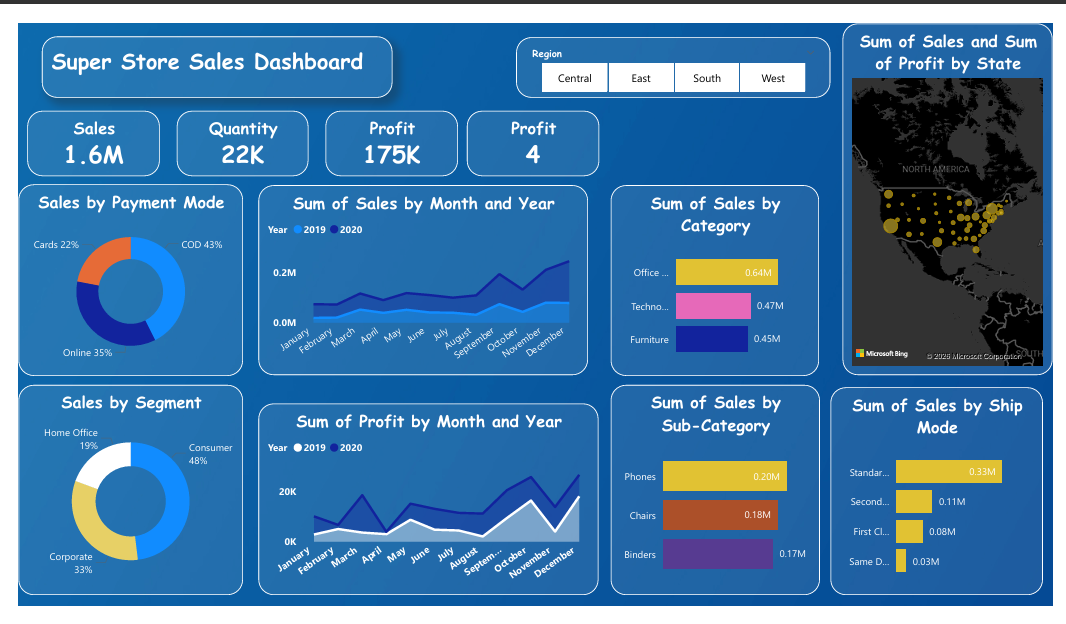

This screenshot's page, from the dashboard's own definition file:
{"tool":"powerbi","page":{"name":"Page 1","canvas":[1280,720],"ordinal":0},"visuals":[{"type":"clusteredBarChart","fields":{"Category":["SuperStore_Sales_Dataset.Category"],"Y":["Sum(SuperStore_Sales_Dataset.Sales)"]},"box":[733.3,200.4,257.7,235.4],"z":0},{"type":"clusteredBarChart","fields":{"Category":["SuperStore_Sales_Dataset.Sub-Category"],"Y":["Sum(SuperStore_Sales_Dataset.Sales)"]},"box":[733.3,446.7,258.3,260],"z":1000},{"type":"clusteredBarChart","fields":{"Y":["Sum(SuperStore_Sales_Dataset.Sales)"],"Category":["SuperStore_Sales_Dataset.Ship Mode"]},"box":[1005,450,263.3,256.7],"z":2000},{"type":"stackedAreaChart","fields":{"Category":["SuperStore_Sales_Dataset.Order Date.Variation.Date Hierarchy.Month","SuperStore_Sales_Dataset.Order Date.Variation.Date Hierarchy.Day"],"Series":["SuperStore_Sales_Dataset.Order Date.Variation.Date Hierarchy.Year"],"Y":["Sum(SuperStore_Sales_Dataset.Profit)"]},"box":[296.7,470,421.7,236.7],"z":3000},{"type":"stackedAreaChart","fields":{"Y":["Sum(SuperStore_Sales_Dataset.Sales)"],"Category":["SuperStore_Sales_Dataset.Order Date.Variation.Date Hierarchy.Month","SuperStore_Sales_Dataset.Order Date.Variation.Date Hierarchy.Day"],"Series":["SuperStore_Sales_Dataset.Order Date.Variation.Date Hierarchy.Year"]},"box":[296.7,200,408.3,235],"z":4000},{"type":"map","fields":{"Category":["SuperStore_Sales_Dataset.State"],"Size":["Sum(SuperStore_Sales_Dataset.Sales)"]},"box":[1020,0,260,435],"z":5000},{"type":"donutChart","title":"Sales by Segment","fields":{"Category":["SuperStore_Sales_Dataset.Segment"],"Y":["Sum(SuperStore_Sales_Dataset.Sales)"]},"box":[0,446.7,278.3,260],"z":6000},{"type":"slicer","fields":{"Values":["SuperStore_Sales_Dataset.Region"]},"box":[615.6,17.5,389.7,74.8],"z":7000},{"type":"donutChart","title":" Sales by Payment Mode","fields":{"Y":["Sum(SuperStore_Sales_Dataset.Sales)"],"Category":["SuperStore_Sales_Dataset.Payment Mode"]},"box":[0,198.8,278.4,237],"z":8000},{"type":"textbox","box":[28.6,15.9,434.2,76.3],"z":9000},{"type":"card","title":"Sales","fields":{"Values":["Sum(SuperStore_Sales_Dataset.Sales)"]},"box":[11.1,108.2,163.8,81.1],"z":10000},{"type":"card","title":"Quantity","fields":{"Values":["Sum(SuperStore_Sales_Dataset.Quantity)"]},"box":[195.6,108.2,163.8,81.1],"z":11000},{"type":"card","title":"Profit","fields":{"Values":["Sum(SuperStore_Sales_Dataset.Profit)"]},"box":[380.2,108.2,163.8,81.1],"z":12000},{"type":"card","title":"Profit","fields":{"Values":["Avg(SuperStore_Sales_Dataset.AverageDelivery)"]},"box":[555.1,108.2,163.8,81.1],"z":13000}]}

Visuals, with their boxes on the page's 1280x720 design canvas (x1, y1, x2, y2). These are canvas units, not pixel positions in the 1066x624 screenshot, which may show the page scaled, cropped or inside an application window:
clusteredBarChart - SuperStore_Sales_Dataset.Category x Sum(SuperStore_Sales_Dataset.Sales): detection(733, 200, 991, 436)
clusteredBarChart - SuperStore_Sales_Dataset.Sub-Category x Sum(SuperStore_Sales_Dataset.Sales): detection(733, 447, 992, 707)
clusteredBarChart - Sum(SuperStore_Sales_Dataset.Sales) x SuperStore_Sales_Dataset.Ship Mode: detection(1005, 450, 1268, 707)
stackedAreaChart - SuperStore_Sales_Dataset.Order Date.Variation.Date Hierarchy.Month x SuperStore_Sales_Dataset.Order Date.Variation.Date Hierarchy.Day: detection(297, 470, 718, 707)
stackedAreaChart - Sum(SuperStore_Sales_Dataset.Sales) x SuperStore_Sales_Dataset.Order Date.Variation.Date Hierarchy.Month: detection(297, 200, 705, 435)
map - SuperStore_Sales_Dataset.State x Sum(SuperStore_Sales_Dataset.Sales): detection(1020, 0, 1280, 435)
"Sales by Segment" donutChart: detection(0, 447, 278, 707)
slicer - SuperStore_Sales_Dataset.Region: detection(616, 18, 1005, 92)
" Sales by Payment Mode" donutChart: detection(0, 199, 278, 436)
textbox: detection(29, 16, 463, 92)
"Sales" card: detection(11, 108, 175, 189)
"Quantity" card: detection(196, 108, 359, 189)
"Profit" card: detection(380, 108, 544, 189)
"Profit" card: detection(555, 108, 719, 189)
